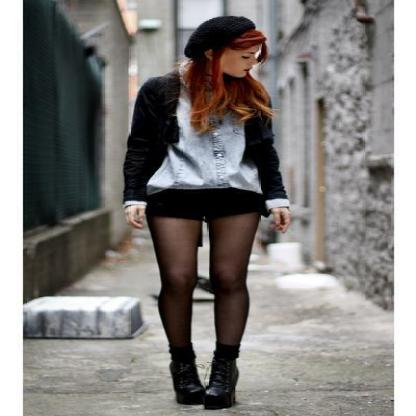hat: (187, 16, 255, 57)
jacket: (123, 76, 286, 205)
shirt: (147, 92, 261, 190)
shoe: (170, 338, 240, 409)
shorts: (144, 186, 274, 240)
